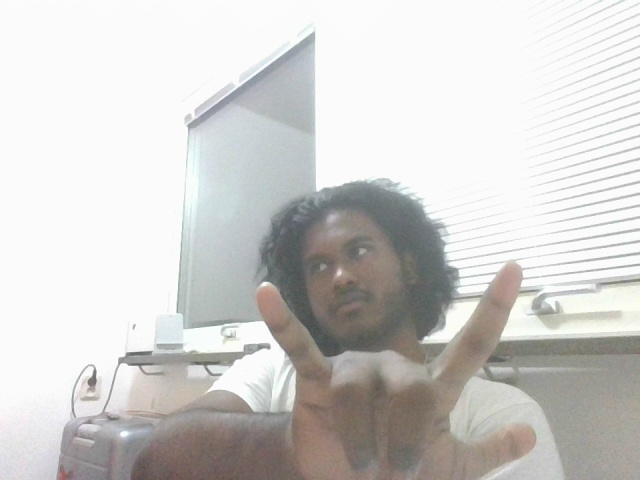I Love You: (252, 271, 548, 479)
